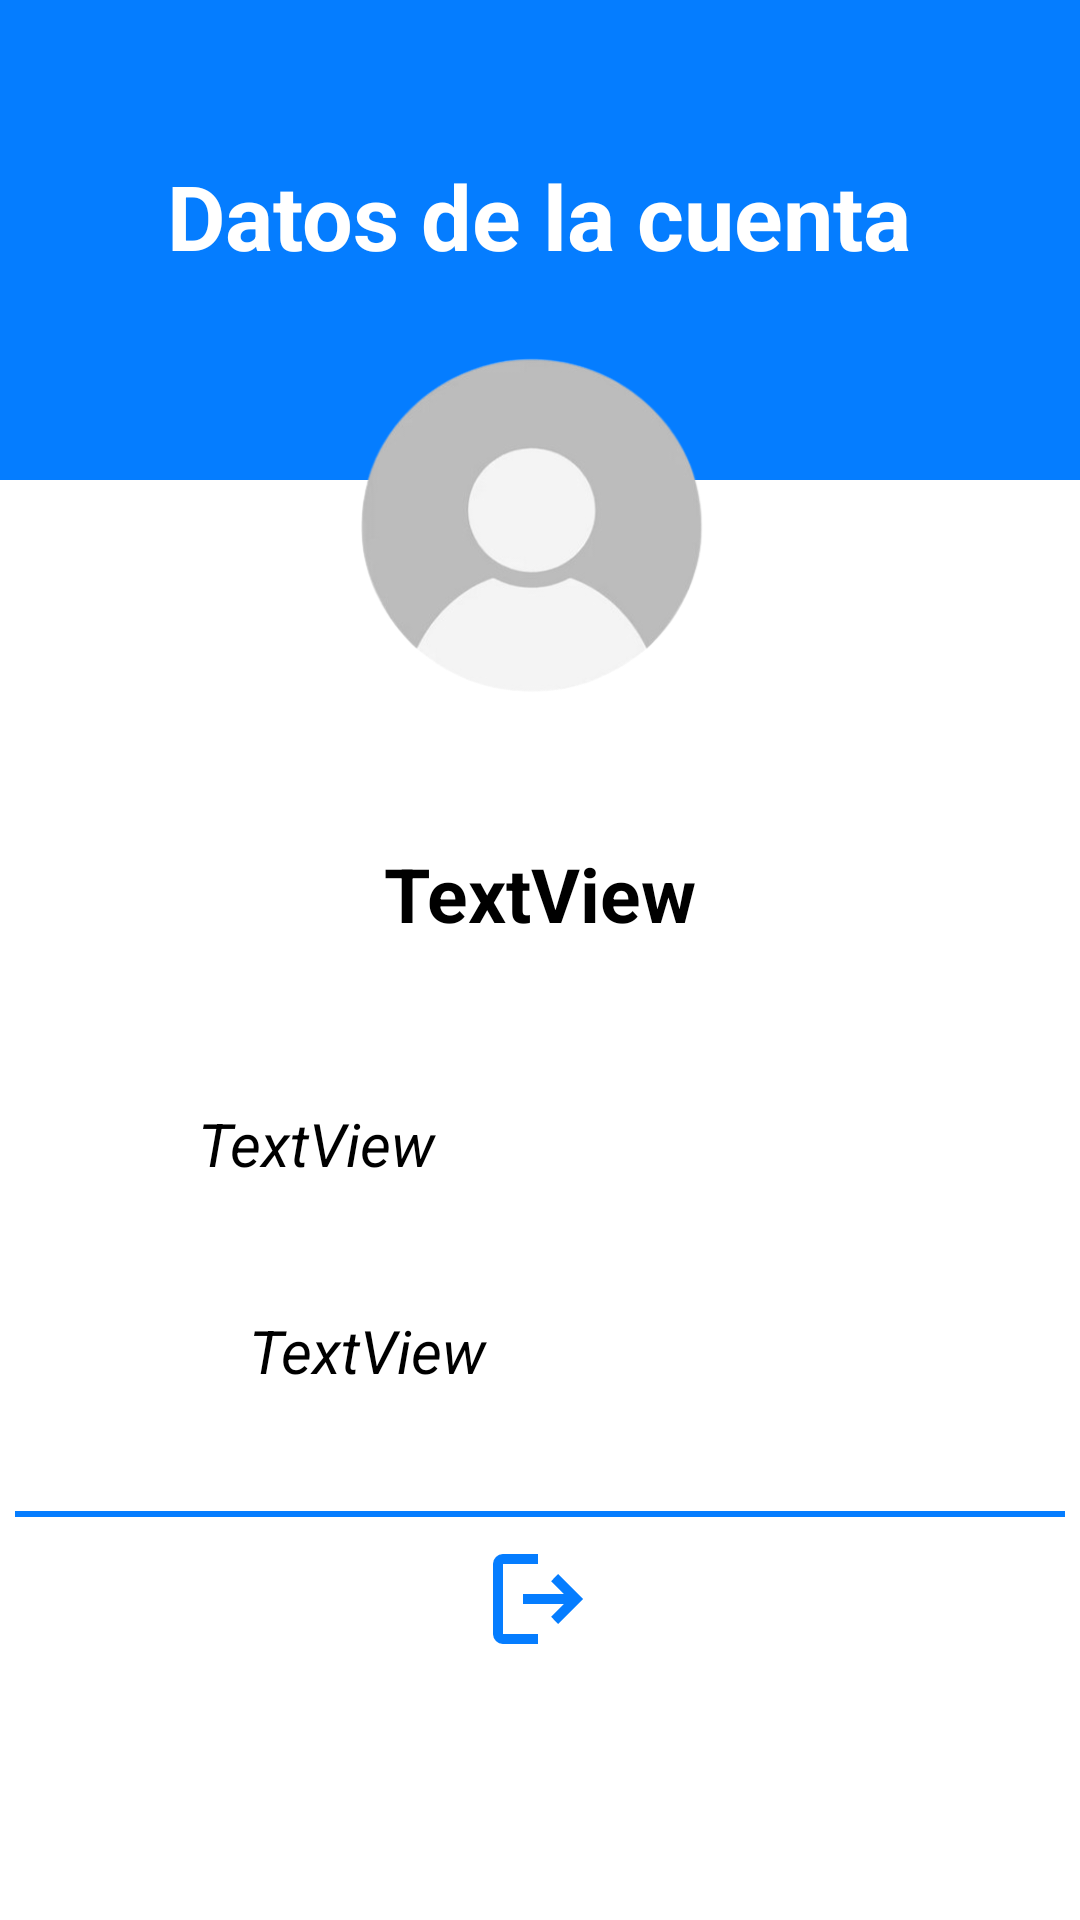

Screen size 1080 x 1920. Icon name, then its box in pixels as bbox=[x1, y1, x2, y2]:
fuera: bbox=[493, 1554, 583, 1644]
